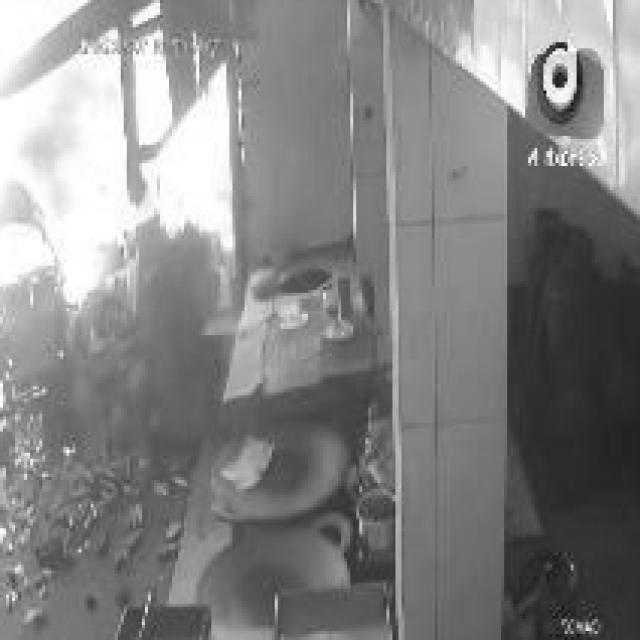smoke: (0, 0, 130, 429), (64, 33, 232, 254)
